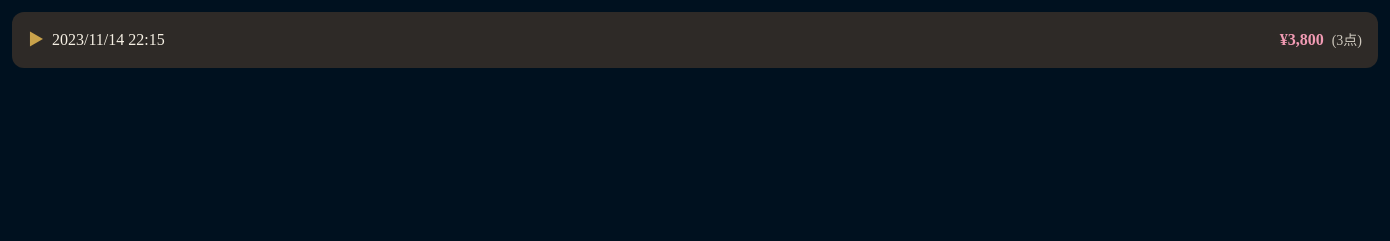
OrderRow(開く) › もう一度押すと、閉じる
What coordinates should you click on to do the following:
click the button "▶ 2023/11/14 22:15 ¥3,800(3点)"
I would click on:
 (108, 40)
Its box is x1=12 y1=12 x2=1378 y2=68.
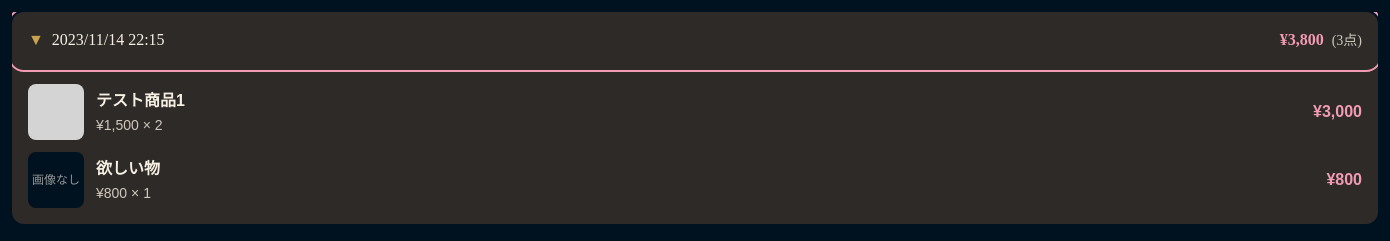
What coordinates should you click on to do the following:
click the button "▼ 2023/11/14 22:15 ¥3,800(3点)"
I would click on:
 (108, 40)
Its box is x1=12 y1=12 x2=1378 y2=68.
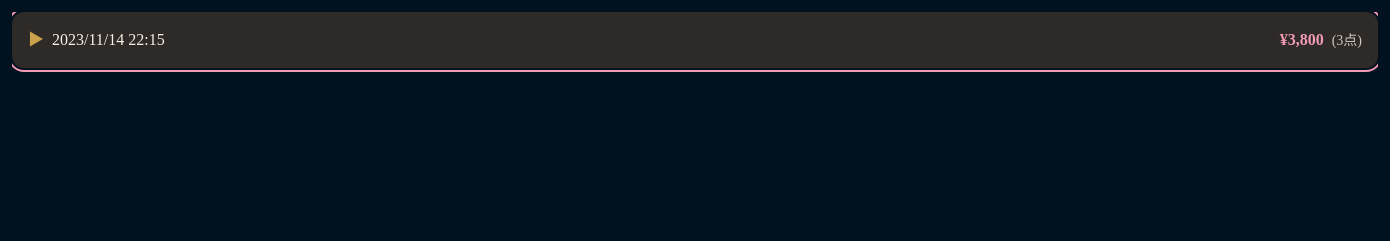
Result: the button "▶ 2023/11/14 22:15 ¥3,800(3点)" is collapsed at x1=12 y1=12 x2=1378 y2=68
Result: the text "テスト商品1" is gone
